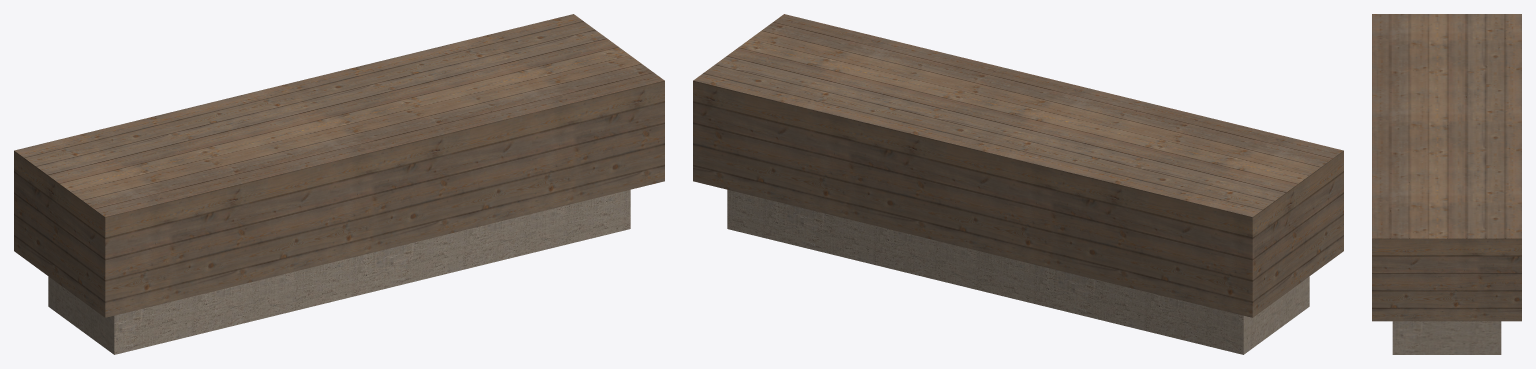
Rendered from Lavička1.obj.
3 views of the same model, side by side, from view 1: azimuth 30°, elevation 25°; view 2: azimuth 150°, elevation 25°; view 3: azimuth 270°, elevation 25° (orthographic). The views are drawn at different scales.
Parts seen in each view (by area): view 1: Mesh1 Group1 Model; view 2: Mesh1 Group1 Model; view 3: Mesh1 Group1 Model.
Boxes of the visible parts, x1,y1,x2,y2 form: Mesh1 Group1 Model: (14,14,664,354); Mesh1 Group1 Model: (693,14,1343,354); Mesh1 Group1 Model: (1372,14,1521,354).
Size of the model in its own units: 2.27 by 0.59 by 0.64.
Materials: 3 (2 with a texture image).
